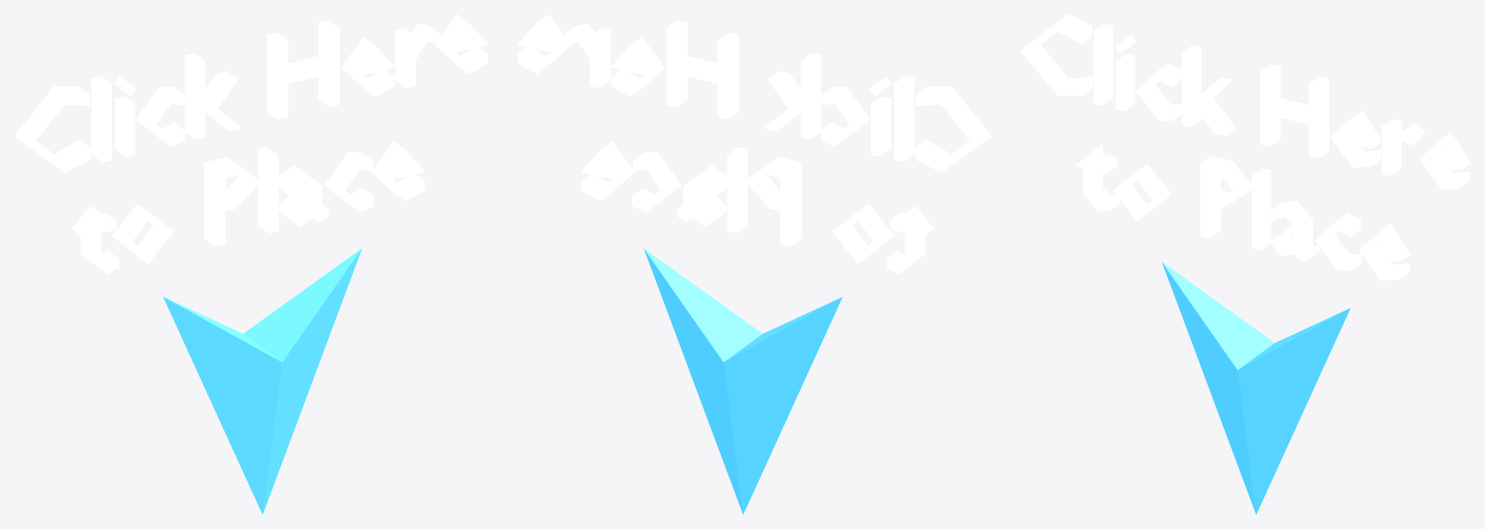
File: reticle1.gltf
3 renders of one model, left to right at view 1: azimuth 30°, elevation 25°; view 2: azimuth 150°, elevation 25°; view 3: azimuth 330°, elevation 25°, orthographic. The views are drawn at different scales.
Parts seen in each view (by area): view 1: Text.002, arrow_model.001; view 2: Text.002, arrow_model.001; view 3: Text.002, arrow_model.001.
Part boxes in pixels (box(x1,y1,x2,y2)): Text.002: box(14, 14, 488, 273); arrow_model.001: box(163, 248, 361, 514); Text.002: box(517, 14, 991, 273); arrow_model.001: box(644, 248, 842, 514); Text.002: box(1020, 14, 1470, 280); arrow_model.001: box(1162, 262, 1350, 514).
Bounding box in the file's own units: 1.2 × 1.17 × 0.1748.
